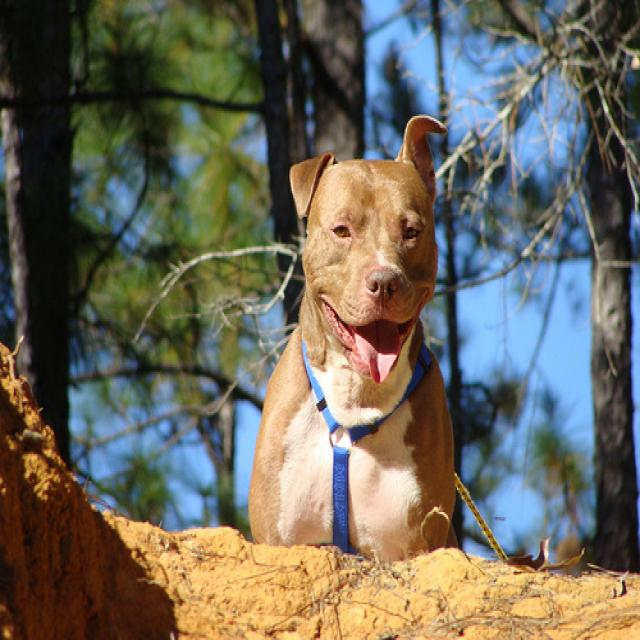dog-american_pit_bull_terrier: (241, 108, 462, 568)
